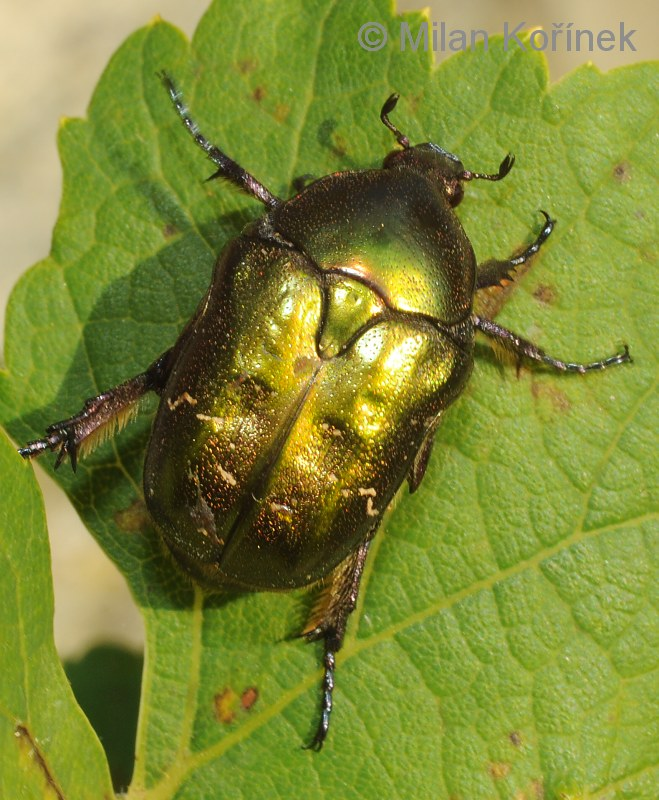Protaetia_metallica: (17, 60, 634, 773)
